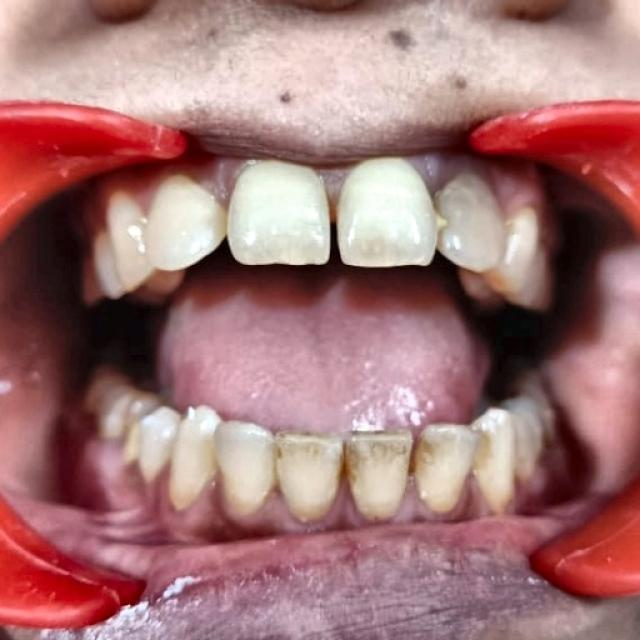processing_area: (165, 272, 485, 434)
